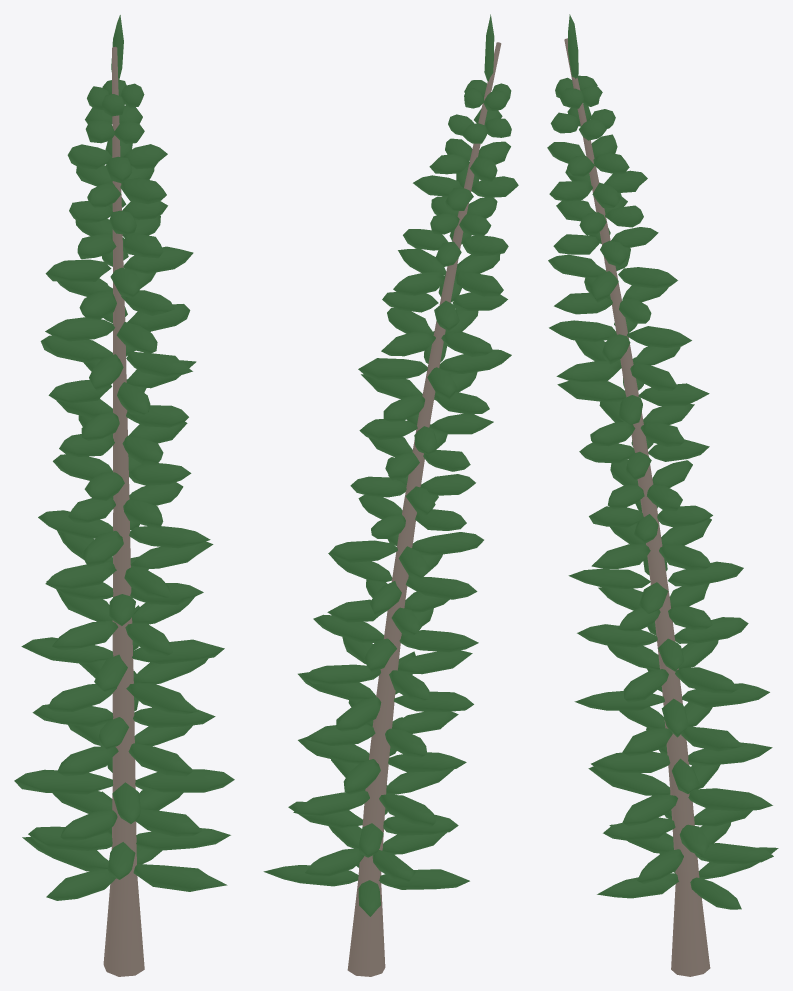
Rendered from Blender_CookPine_1.glb.
The picture shows the model from 3 angles, left to right: view 1: azimuth 30°, elevation 25°; view 2: azimuth 150°, elevation 25°; view 3: azimuth 270°, elevation 25°; orthographic projection. The views are drawn at different scales.
Visible parts, largest first — view 1: Blender_CookPine_1; view 2: Blender_CookPine_1; view 3: Blender_CookPine_1.
Part boxes in pixels (x1=…): Blender_CookPine_1: x1=14, y1=15, x2=234, y2=976; Blender_CookPine_1: x1=263, y1=14, x2=518, y2=976; Blender_CookPine_1: x1=547, y1=14, x2=778, y2=976.
Size of the model in its own units: 8.06 by 39.24 by 8.92.
